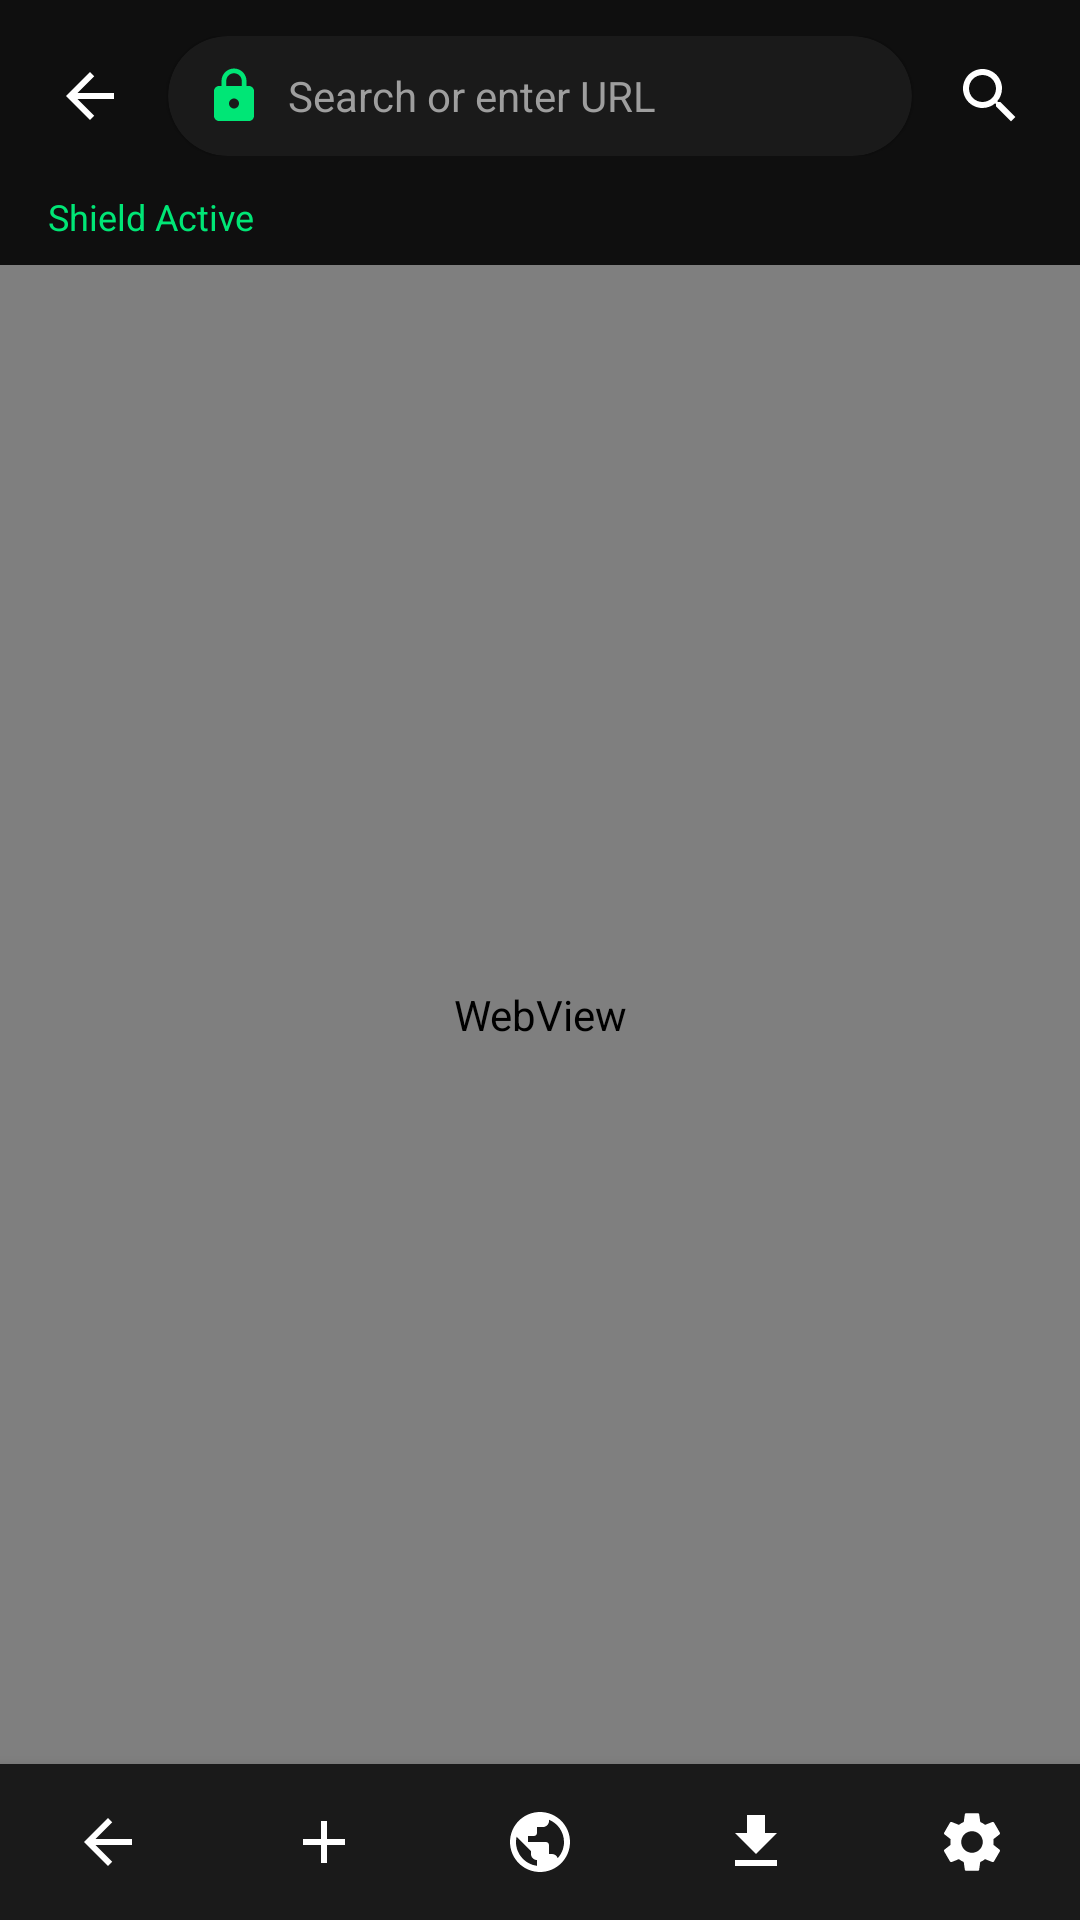

Where to tap for icons on this 1080 × 1920 app screen, as [x,y]:
Downloads: [756,1840]
Go: [989,95]
lock: [234,94]
